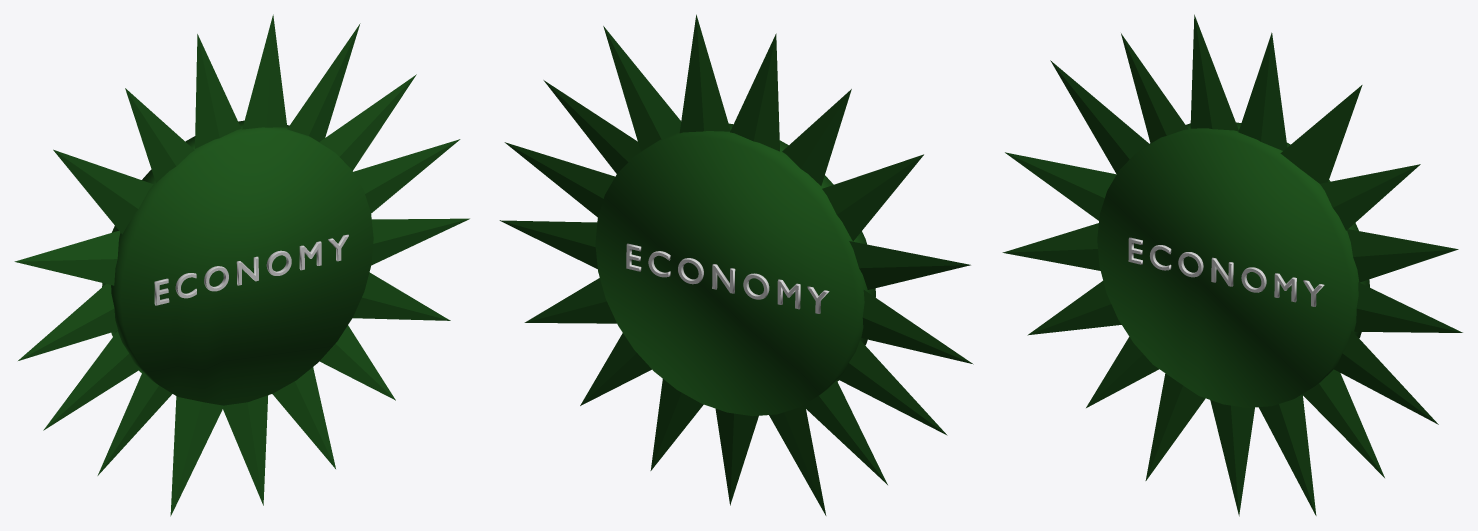
3 renders of one model, left to right at view 1: azimuth 30°, elevation 25°; view 2: azimuth 150°, elevation 25°; view 3: azimuth 330°, elevation 25°, orthographic. The views are drawn at different scales.
Parts seen in each view (by area): view 1: Circle, Efficiency Spark; view 2: Circle, Efficiency Spark.001; view 3: Circle, Efficiency Spark.
Boxes of the visible parts, x1,y1,x2,y2 form: Circle: [14, 14, 469, 516]; Efficiency Spark: [154, 234, 348, 305]; Circle: [499, 14, 973, 515]; Efficiency Spark.001: [626, 243, 829, 313]; Circle: [1002, 14, 1462, 516]; Efficiency Spark: [1128, 237, 1324, 306].
Bounding box in the file's own units: 15.47 × 15.49 × 1.5.
